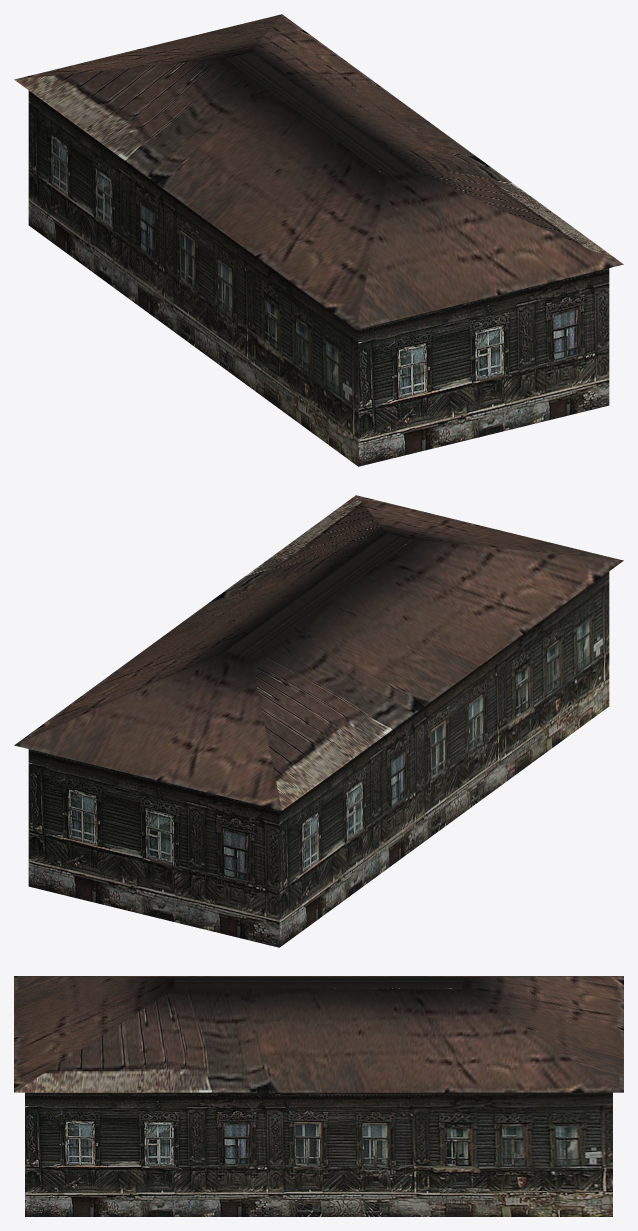
Rendered from House.fbx.
The picture shows the model from 3 angles, top to bottom: view 1: azimuth 30°, elevation 25°; view 2: azimuth 150°, elevation 25°; view 3: azimuth 270°, elevation 25°; orthographic projection. The views are drawn at different scales.
Parts seen in each view (by area): view 1: Box001; view 2: Box001; view 3: Box001.
Part boxes in pixels (x1=…): Box001: x1=14, y1=14, x2=623, y2=466; Box001: x1=14, y1=495, x2=623, y2=947; Box001: x1=14, y1=976, x2=623, y2=1216.
Size of the model in its own units: 7.82 by 5.61 by 17.28.
Materials: 1 (1 with a texture image).
